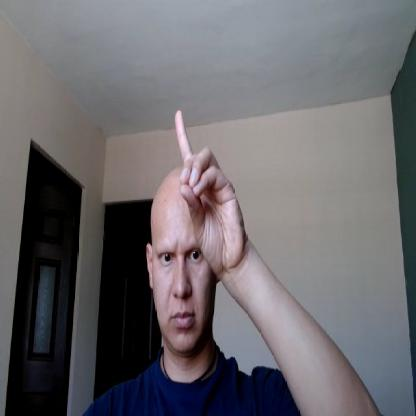D: (175, 108, 246, 272)
